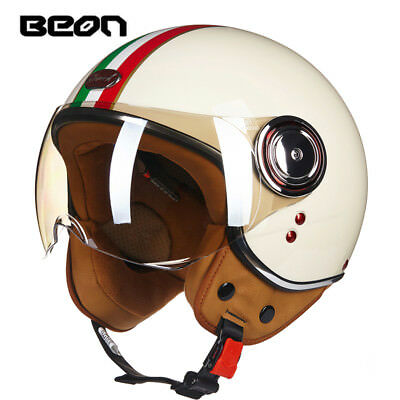with_helmet: (32, 23, 364, 297)
